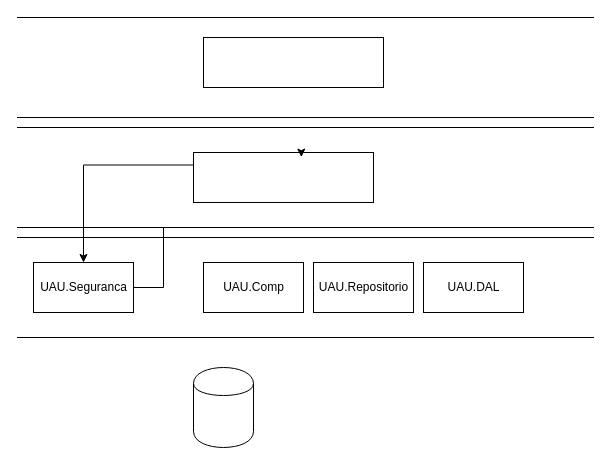
This 611x465 diagram has some shape labels left out. Here are the shapes that lost their labels. From the top down, the centre of each, then its label:
pixel 293 62: UAU.Seguranca.UI.Forms
pixel 283 177: UAU.Seguranca.Services
